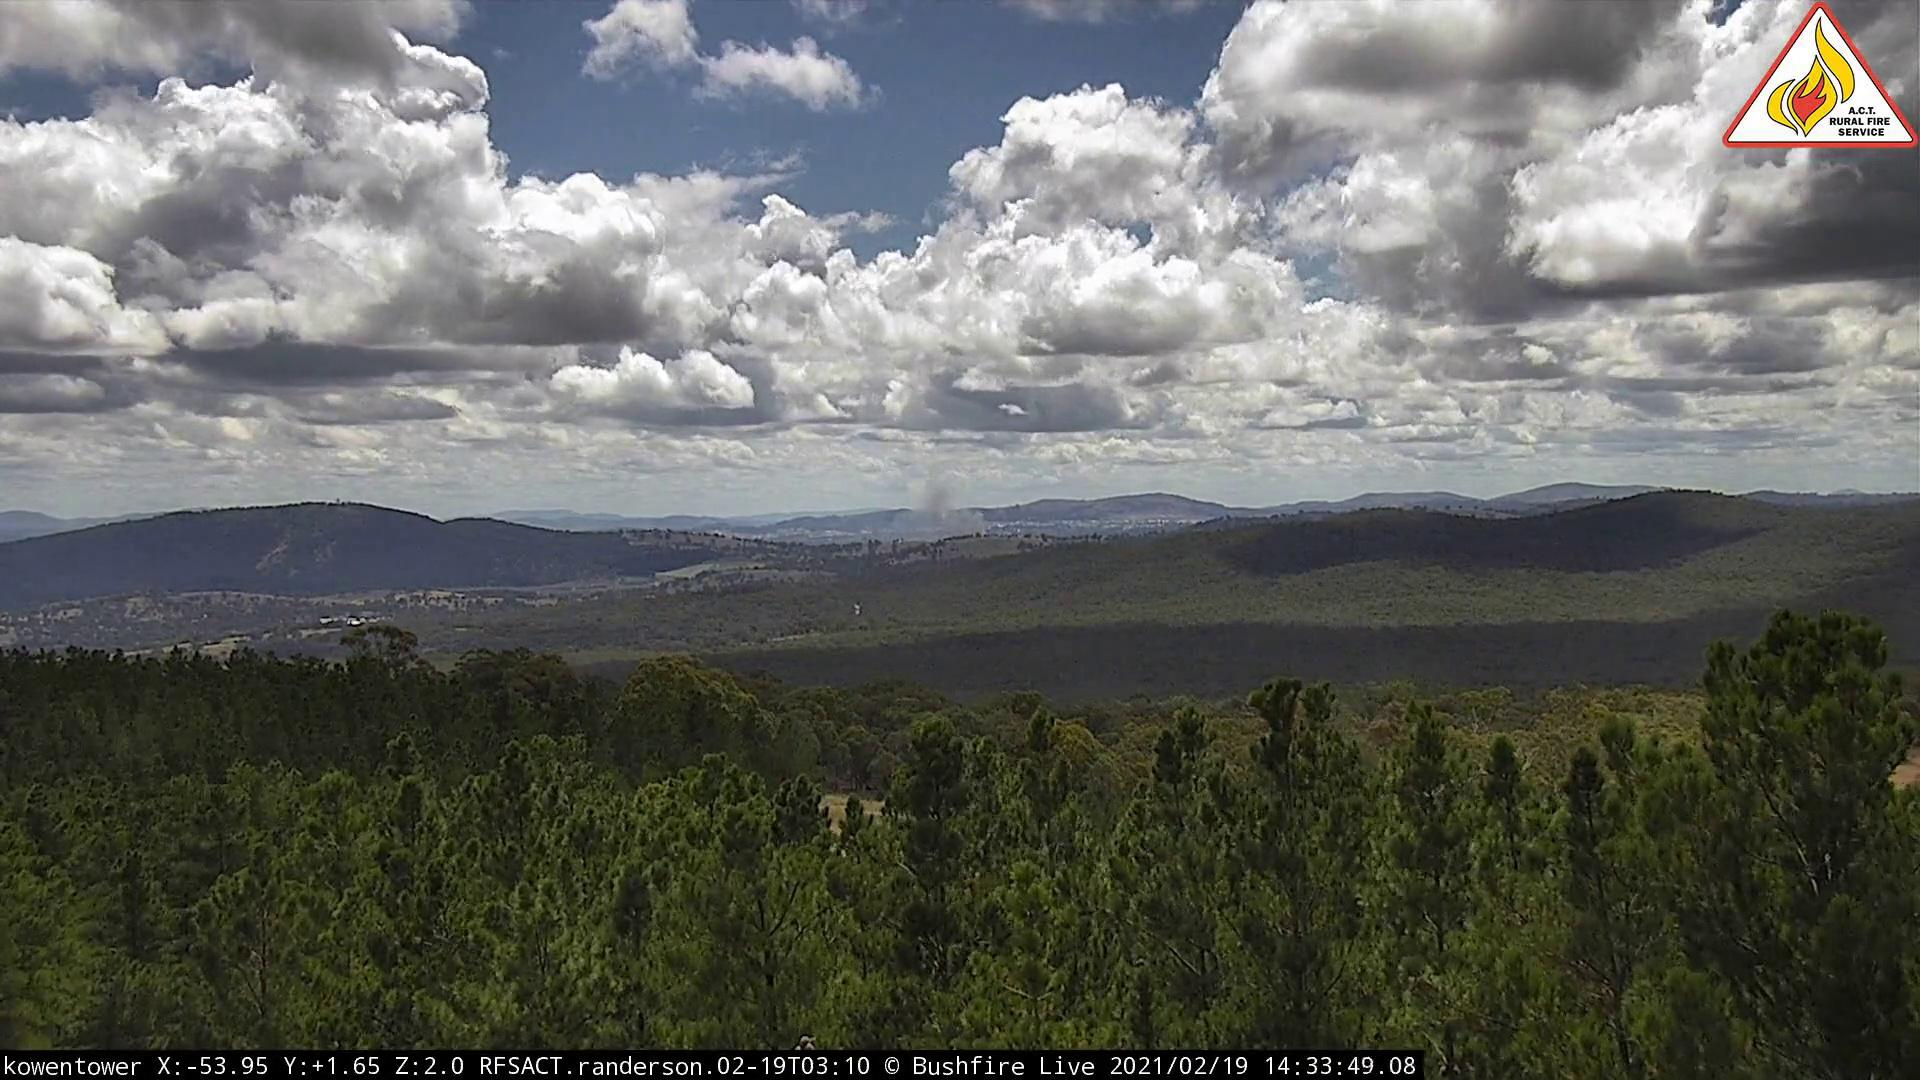instance_salient_object: (876, 483, 992, 555)
